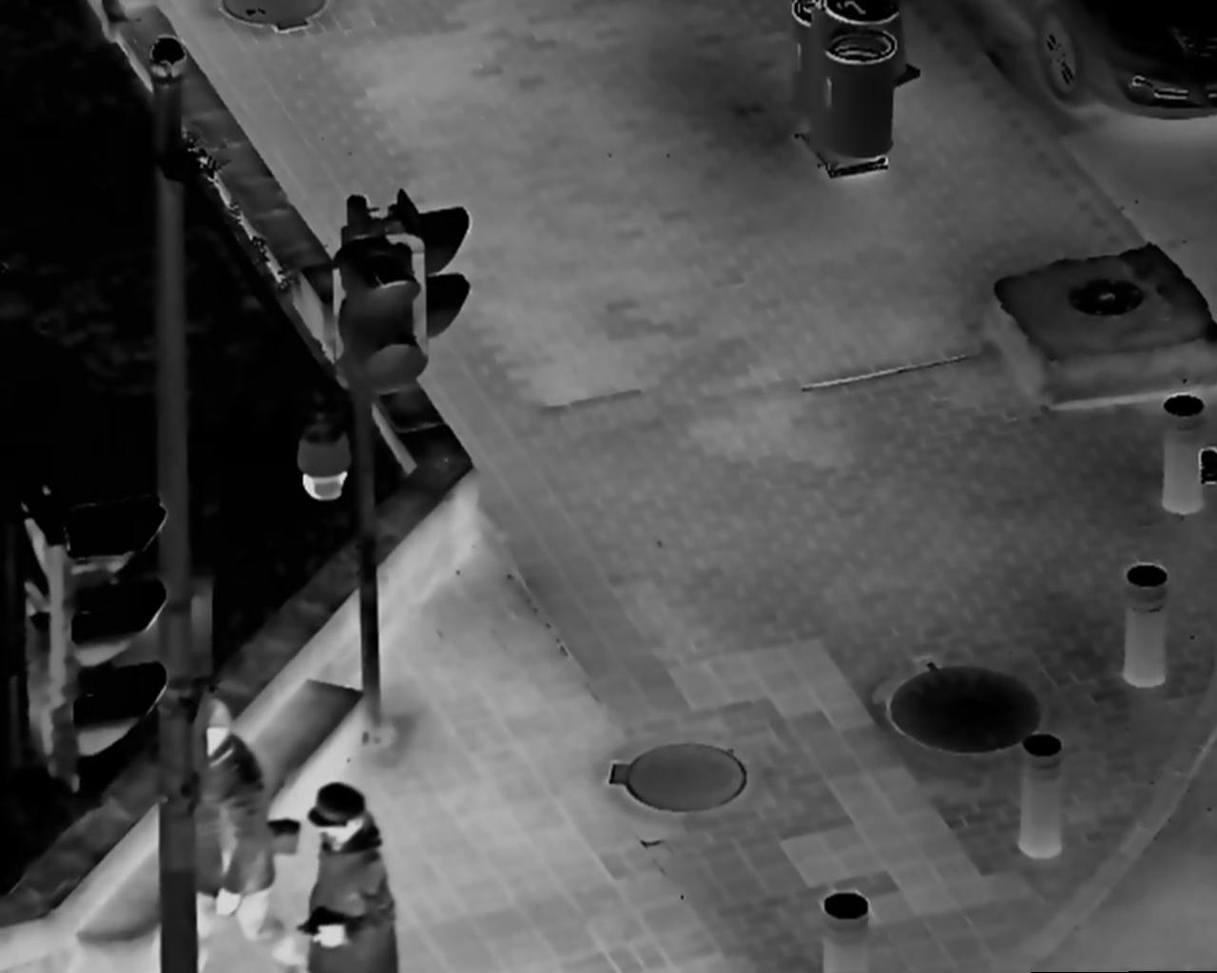person: (176, 689, 289, 945), (296, 776, 410, 973)
